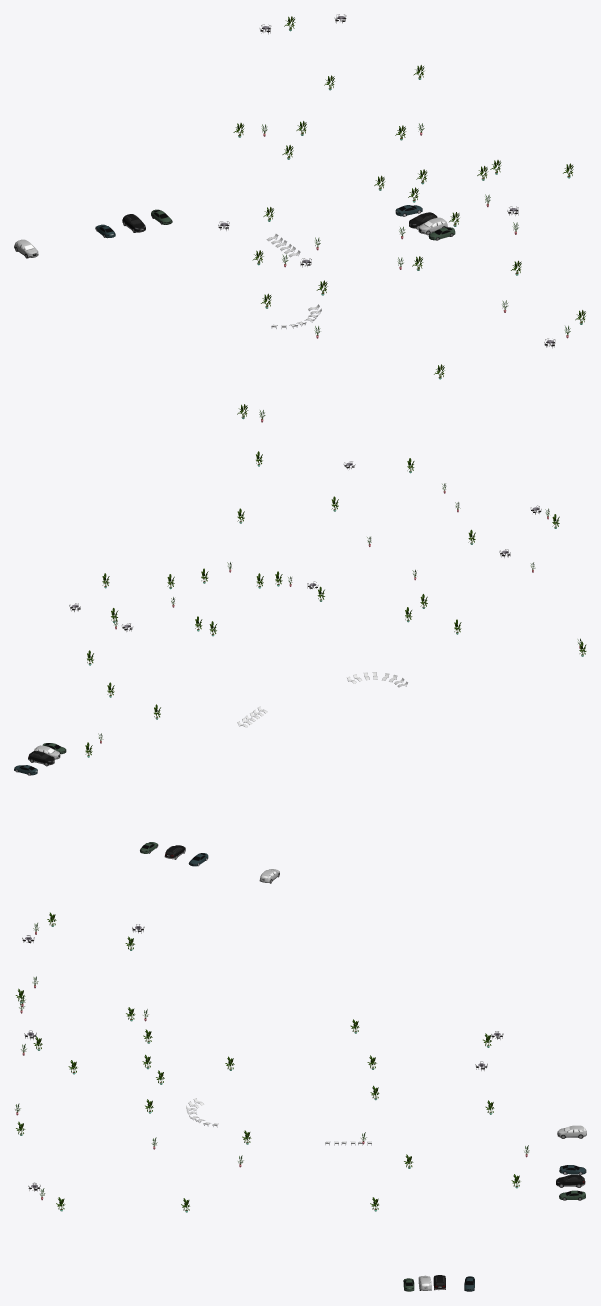
The model's file is MAG_11_plant_build_A.glb.
The picture shows the model from 3 angles, top to bottom: view 1: azimuth 30°, elevation 25°; view 2: azimuth 150°, elevation 25°; view 3: azimuth 270°, elevation 25°; orthographic projection. The views are drawn at different scales.
Parts seen in each view (by area): view 1: A_plant; view 2: A_plant; view 3: A_plant.
Part boxes in pixels (box(x1,y1,x2,y2)): A_plant: box(14, 14, 585, 422); A_plant: box(14, 451, 586, 883); A_plant: box(15, 912, 586, 1291).
Bounding box in the file's own units: 76.33 × 39.35 × 97.45.
11 materials, 10 textured.
